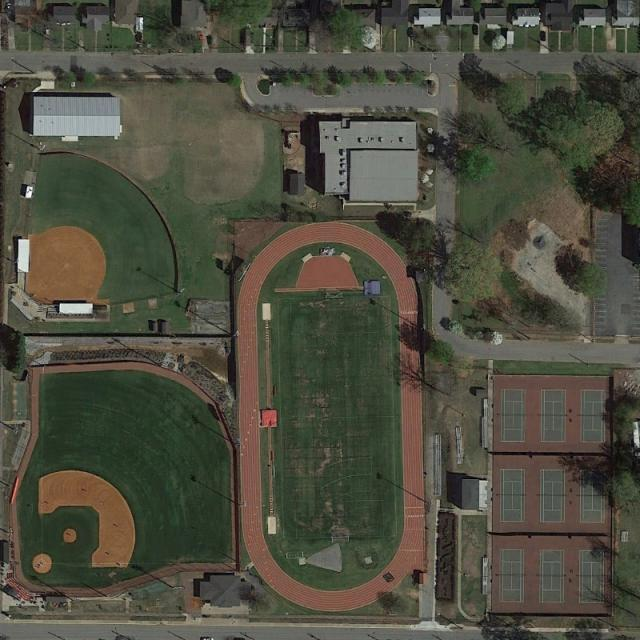vehicle: (7, 2, 13, 14), (198, 31, 204, 42), (407, 27, 413, 37), (541, 30, 546, 42), (45, 26, 50, 35), (138, 32, 142, 42), (474, 25, 478, 35)
